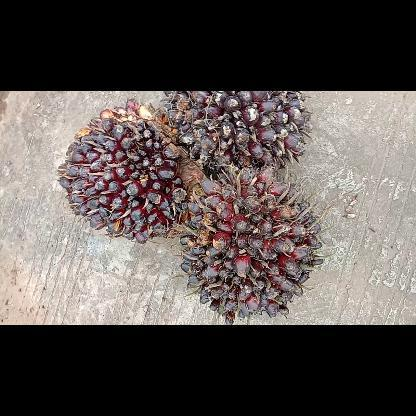TBS mentah: (180, 162, 326, 324), (53, 96, 211, 245), (160, 90, 316, 182)
